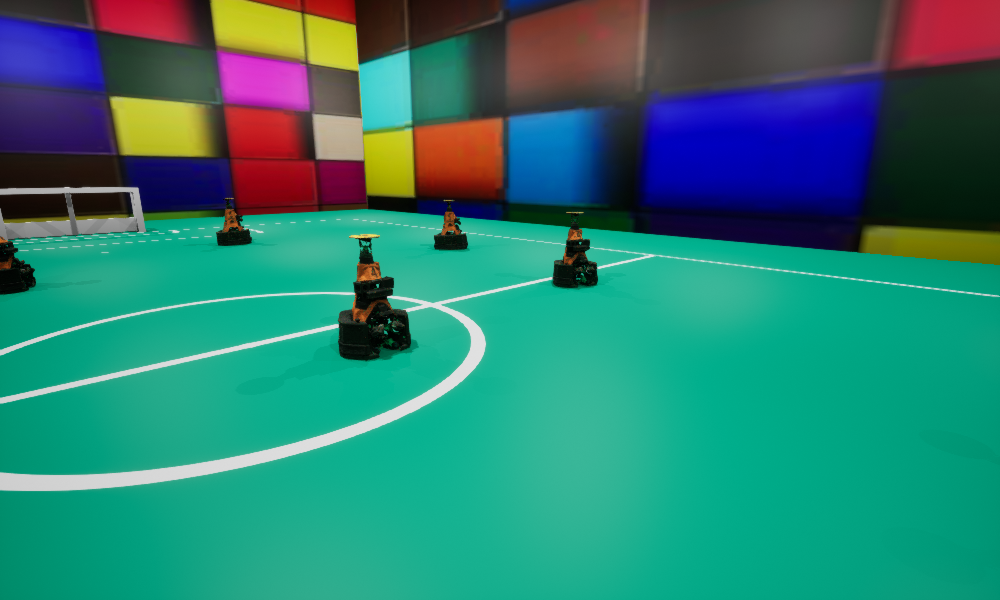0 orange robot TechUnited: (338, 234, 410, 360), (553, 212, 597, 287), (0, 236, 35, 294), (216, 198, 251, 245), (434, 200, 467, 249)
